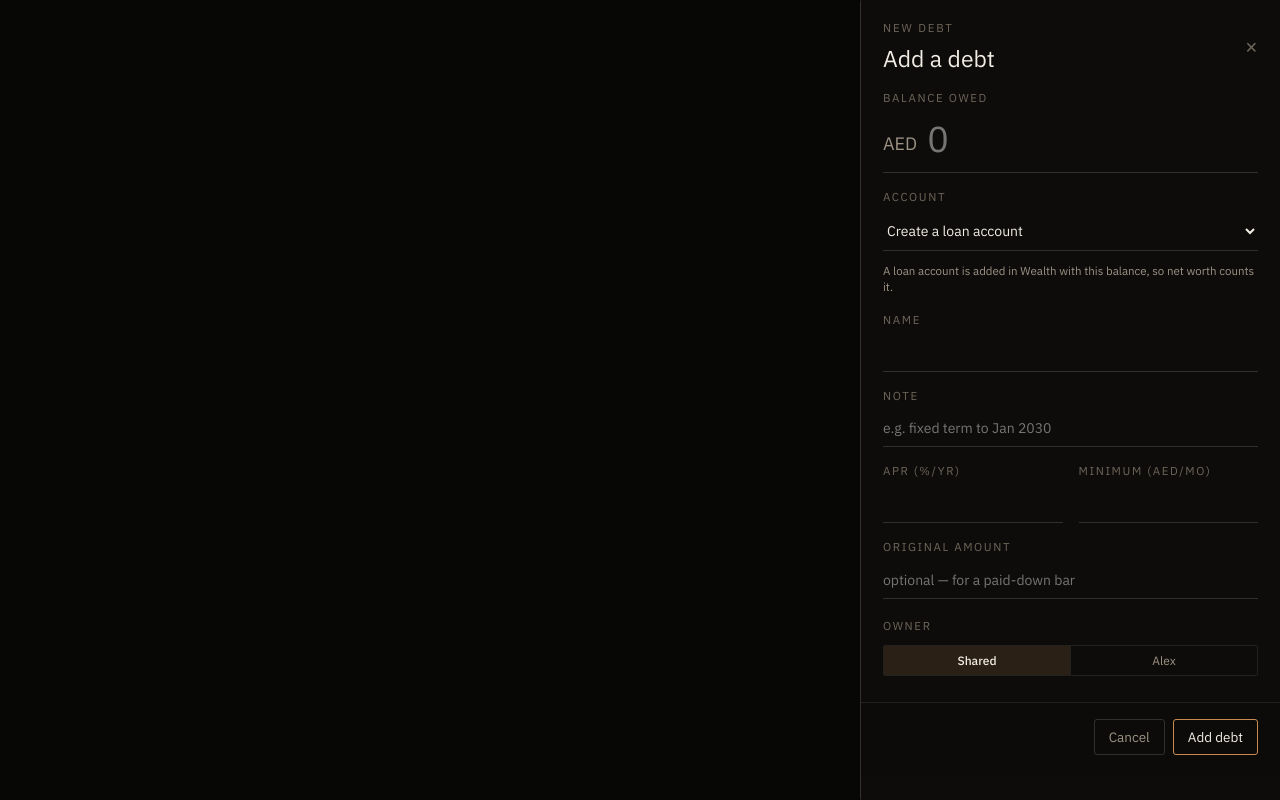
Test case: DebtEditor: the rate and the minimum › refuses a negative minimum and a rate above 100%
In the number field named "Balance owed": (1093, 138) [927,115,1258,162], type "40000"
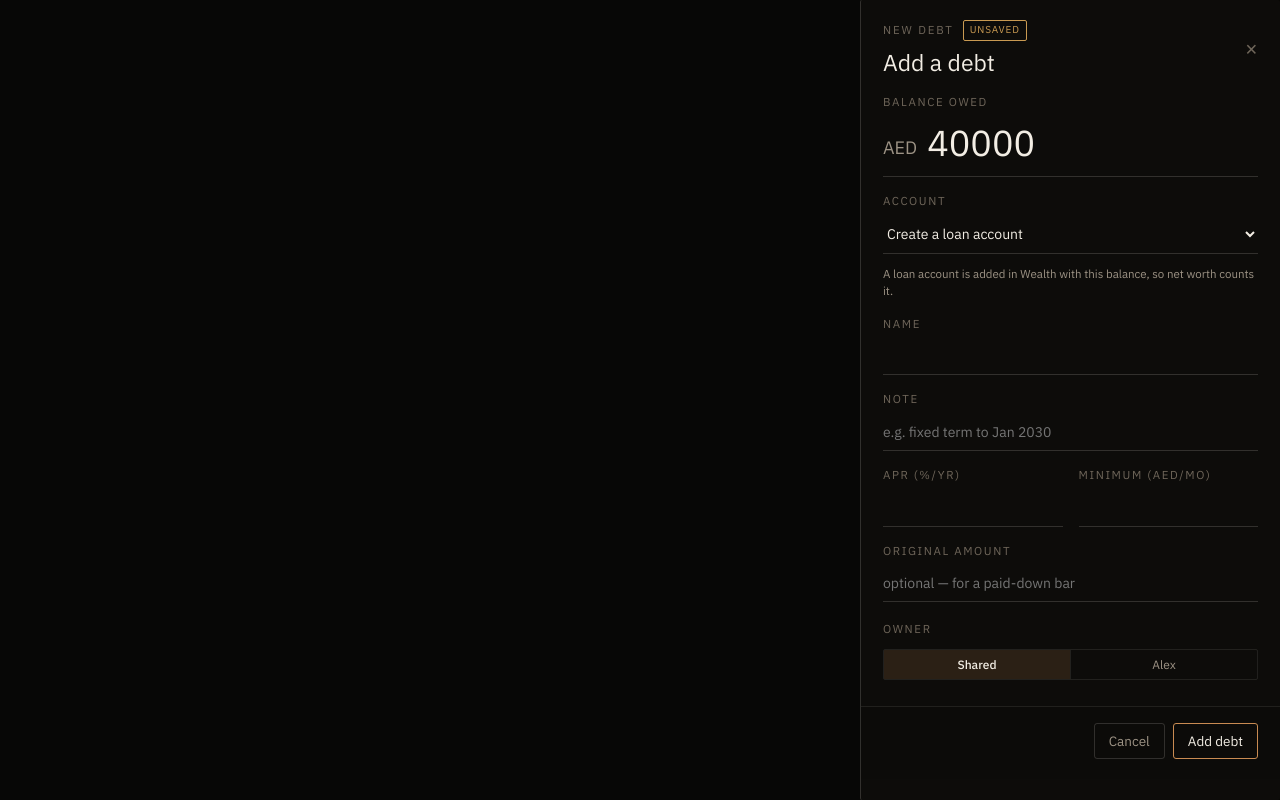
In the field labelled "Name": (1070, 357) [883,338,1258,376], type "Car loan"
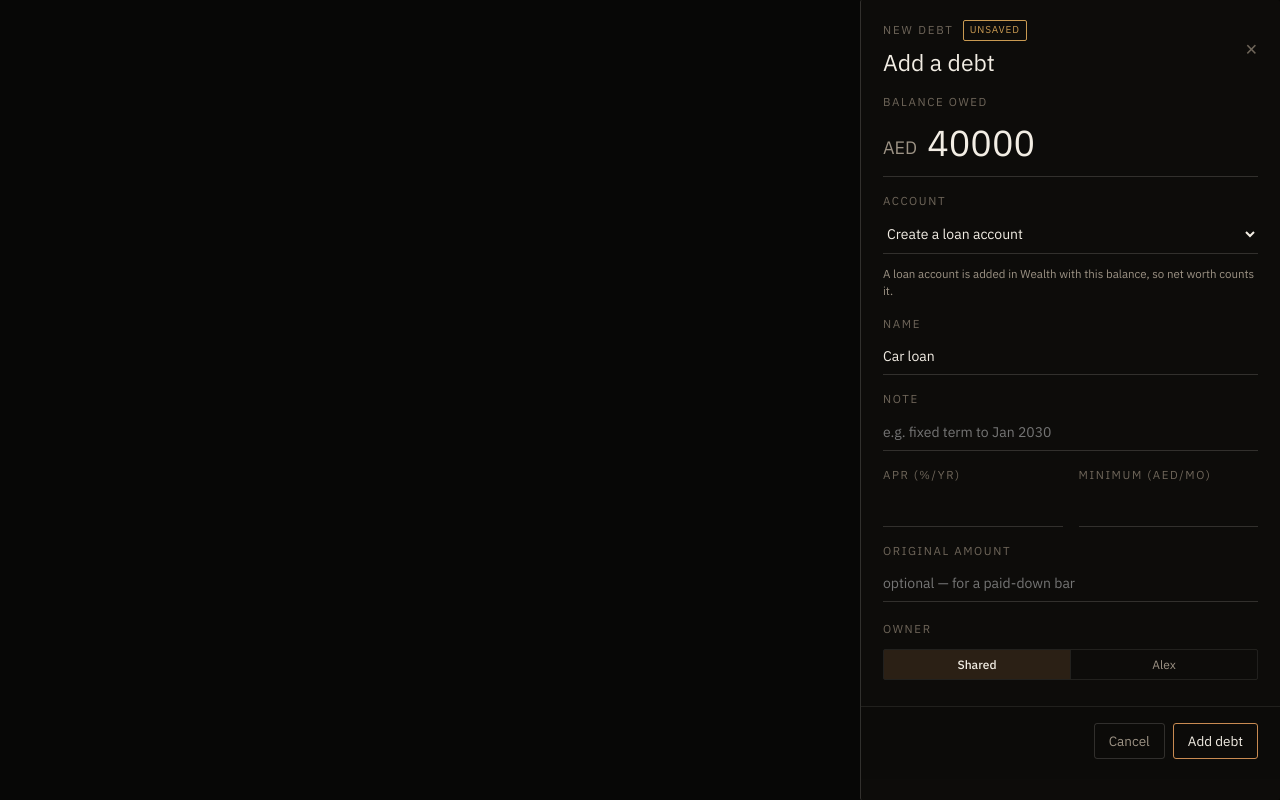
In the number field labelled "APR (%/yr)": (973, 508) [883,490,1062,527], type "120"
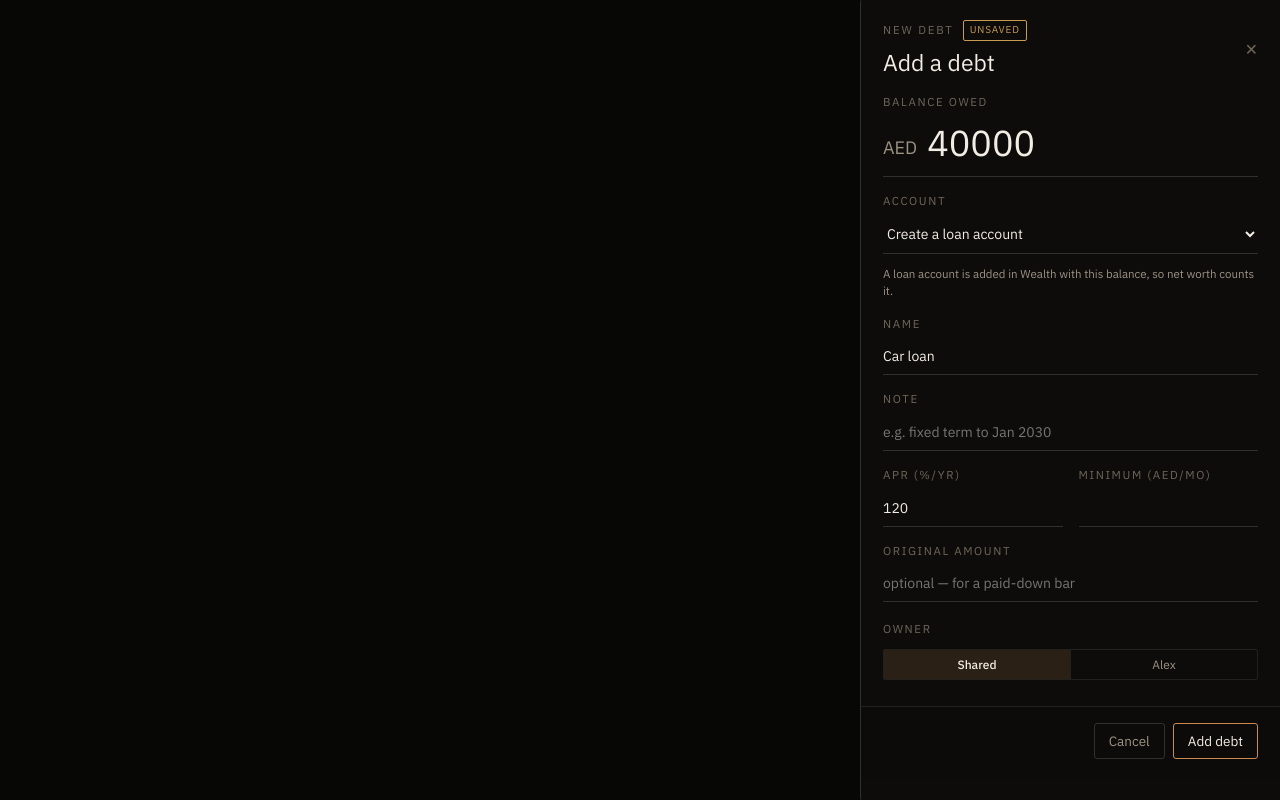
In the number field labelled "Minimum (AED/mo)": (1168, 508) [1078,490,1258,527], type "-5"
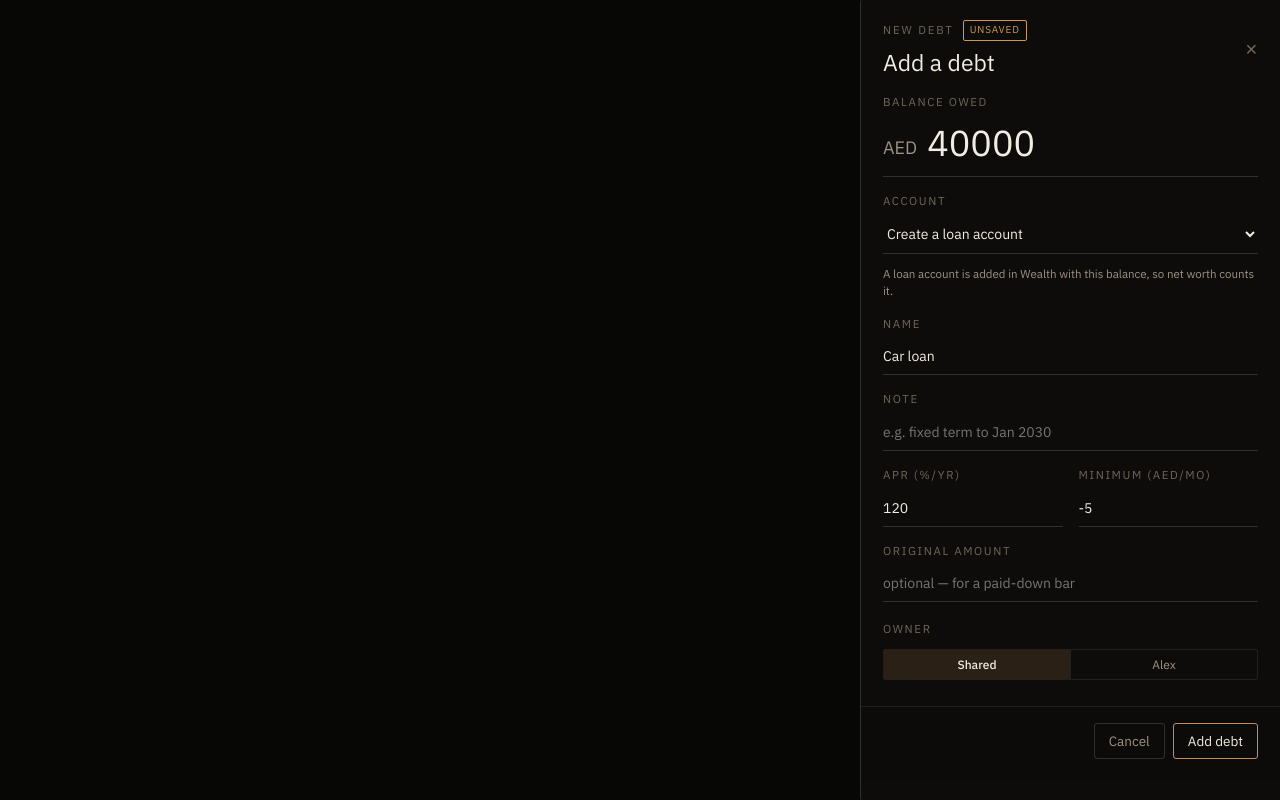
Click the button "Add debt": (1215, 741) [1173,723,1258,759]
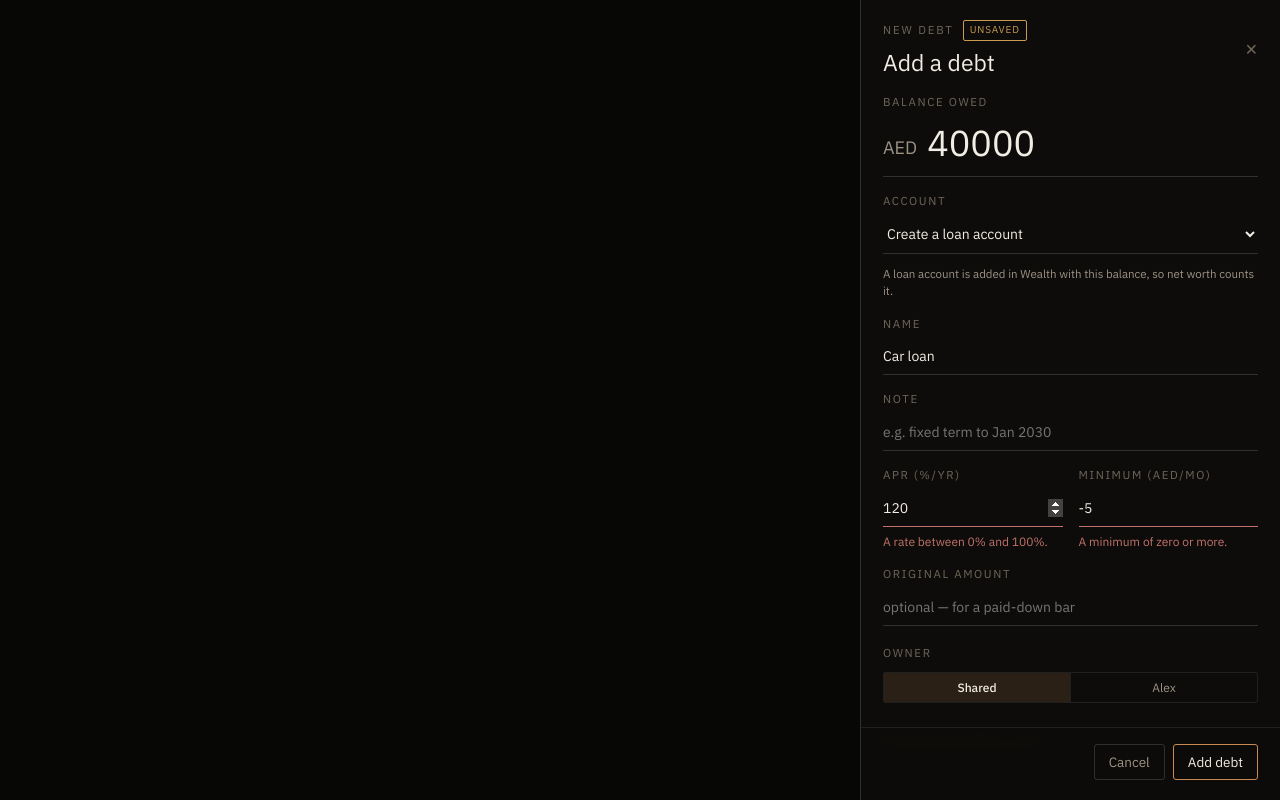
Check: the text "A rate between 0% and 100%." is shown, box [883,533,1062,550]
Check: the text "A minimum of zero or more." is shown, box [1078,534,1227,549]
